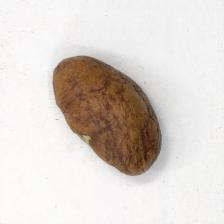NG: (70, 128, 94, 150)
